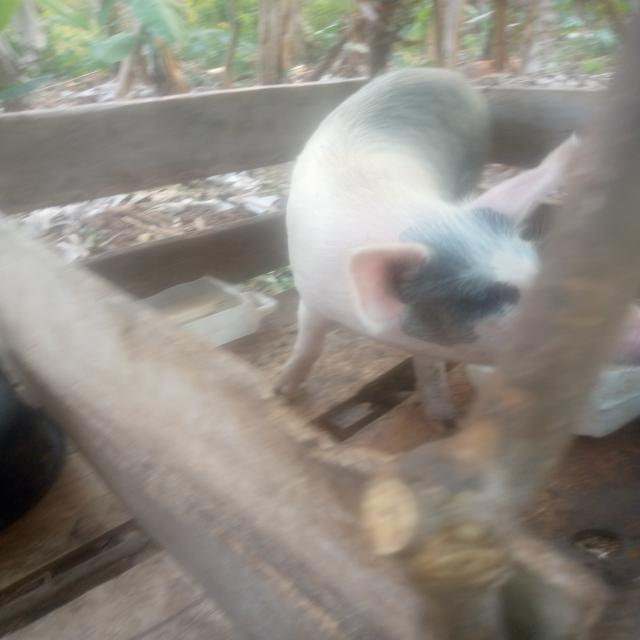pig: (210, 39, 607, 464)
